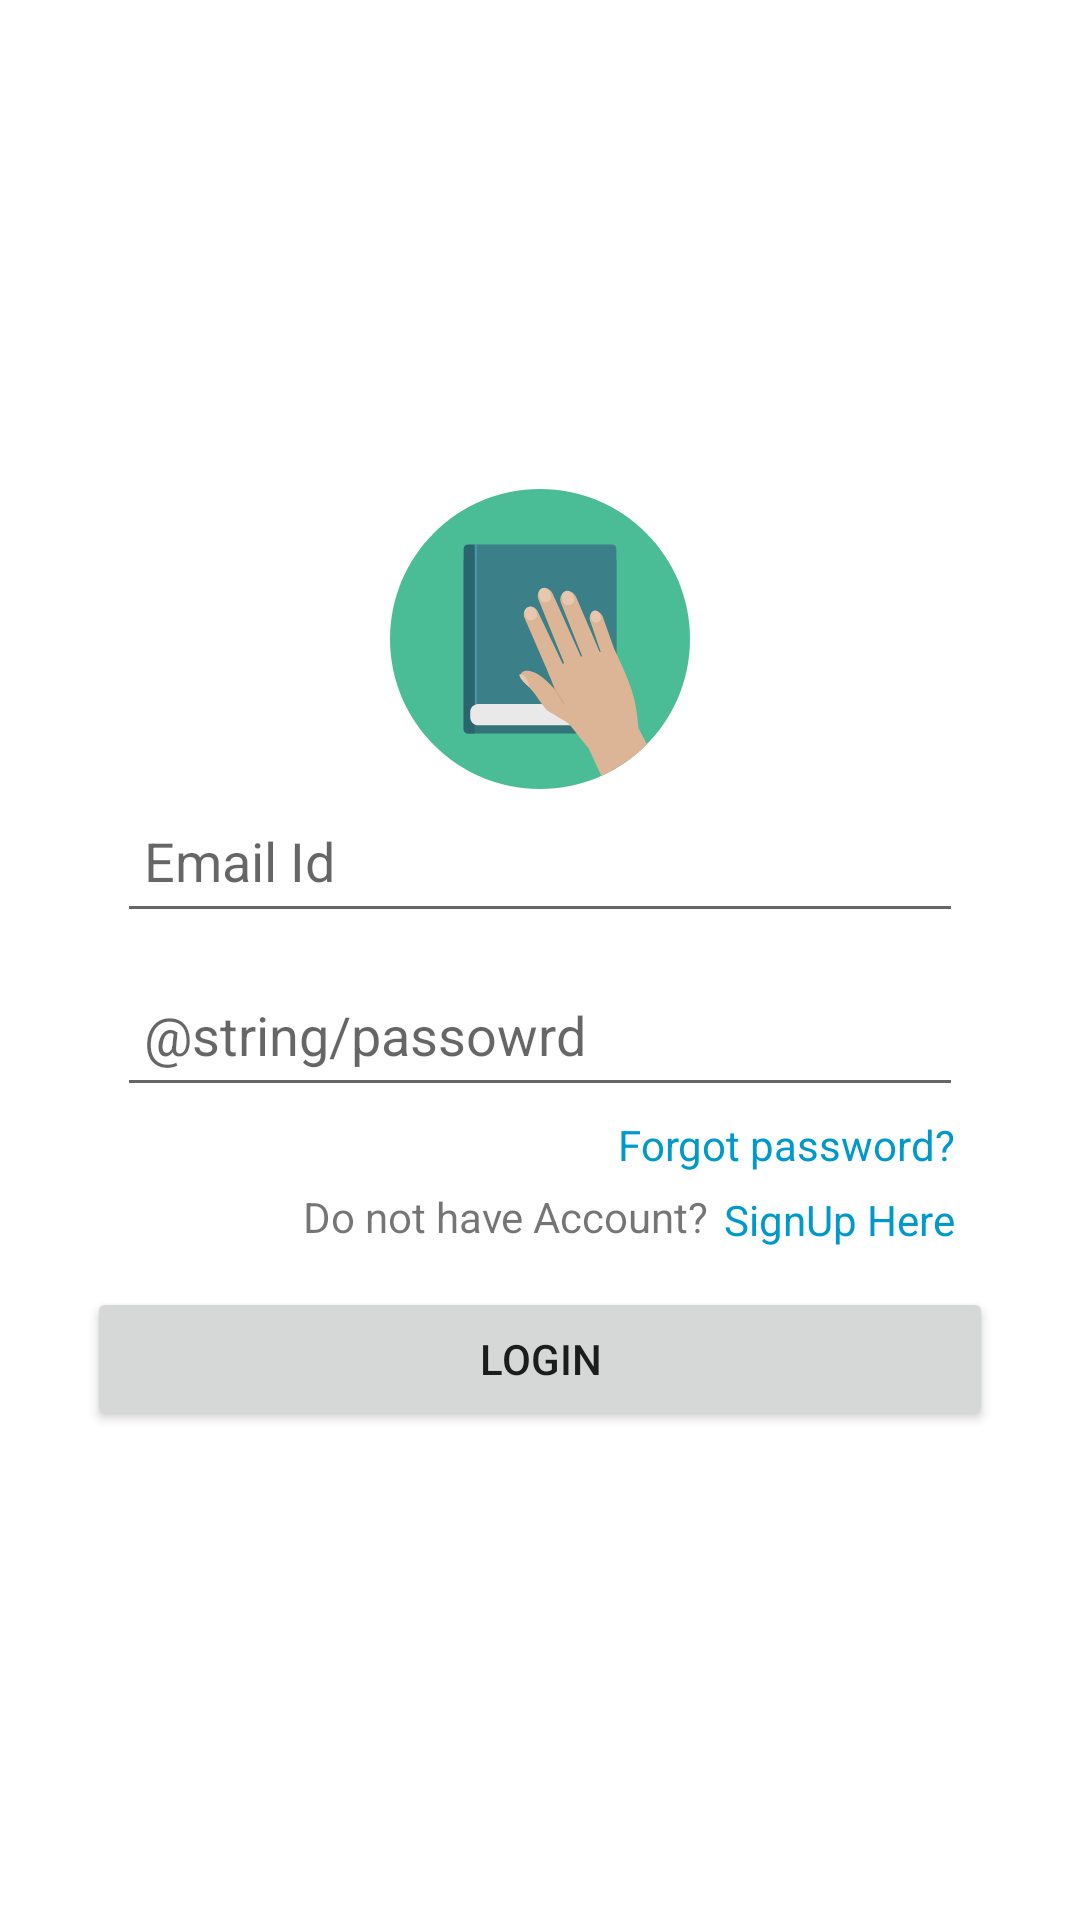

Screen size 1080px×1920px. Icon name, then its box in pixels as bbox(x1, y1, x2, y2):
book: bbox(390, 489, 690, 789)
